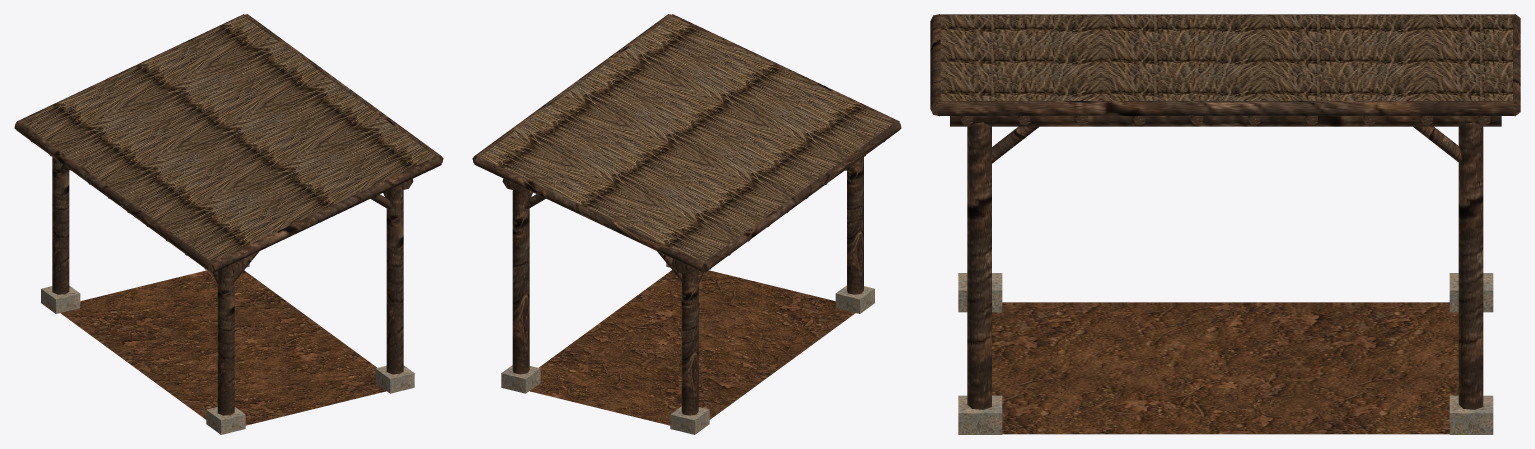
The model's file is sideShelter.glb.
3 views of the same model, side by side, from view 1: azimuth 30°, elevation 25°; view 2: azimuth 150°, elevation 25°; view 3: azimuth 270°, elevation 25° (orthographic). The views are drawn at different scales.
Parts seen in each view (by area): view 1: part_3, part_0, part_2, part_1; view 2: part_3, part_0, part_2, part_1; view 3: part_0, part_3, part_2, part_1.
Part boxes in pixels (x1,y1,x2,y2): part_3: [20, 14, 438, 261]; part_0: [60, 270, 386, 425]; part_2: [14, 14, 443, 415]; part_1: [41, 264, 414, 434]; part_3: [477, 14, 895, 262]; part_0: [529, 270, 855, 425]; part_2: [472, 14, 901, 415]; part_1: [501, 263, 874, 434]; part_0: [992, 302, 1458, 434]; part_3: [938, 15, 1513, 102]; part_2: [930, 14, 1520, 409]; part_1: [958, 273, 1493, 434].
Size of the model in its own units: 2.21 by 2.1 by 3.23.
Materials: 4 (4 with a texture image).
